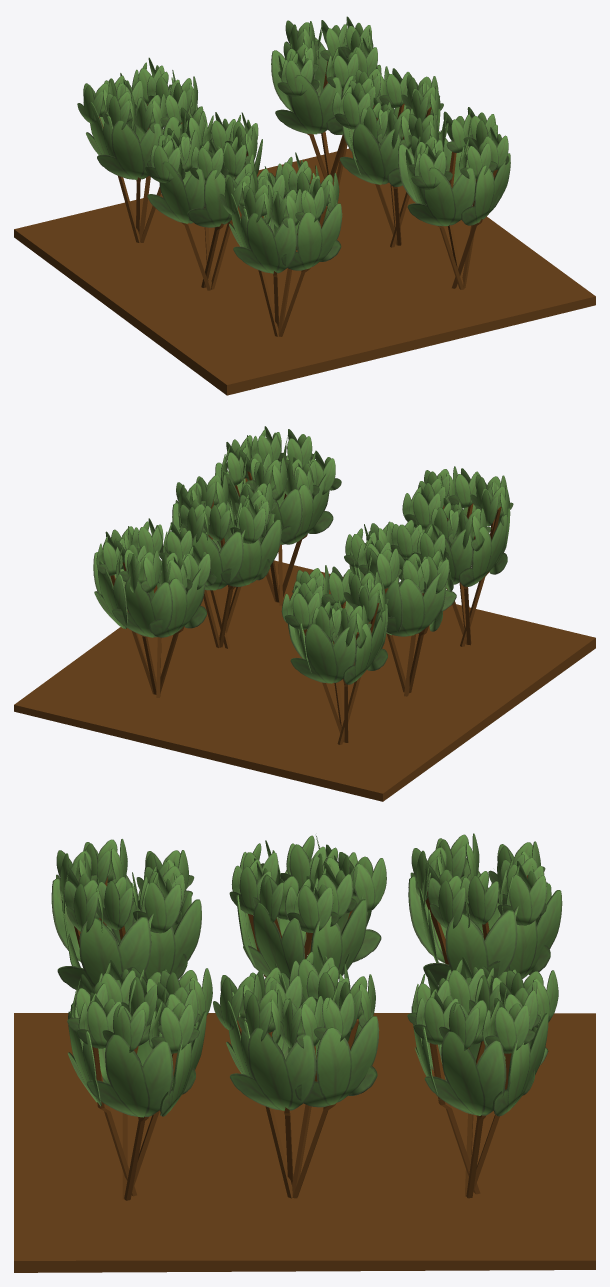
File: Coca1.fbx
3 renders of one model, top to bottom at view 1: azimuth 30°, elevation 25°; view 2: azimuth 150°, elevation 25°; view 3: azimuth 270°, elevation 25°, orthographic. The views are drawn at different scales.
Parts seen in each view (by area): view 1: Coffee.003, Plane.152, Plane.005, Plane.036, Plane.092, Plane.065, Plane.153, Plane.125, Plane.002, Plane.122, Cube.005, Cube (+25 smaller); view 2: Coffee.003, Plane.096, Plane.067, Plane.126, Plane.037, Plane.034, Plane.066, Plane.155, Plane.006, Cube.002, Plane.095, Cube.001 (+29 smaller); view 3: Coffee.003, Plane.003, Plane.032, Plane.063, Plane.033, Plane.154, Plane.094, Plane.123, Cube.001, Cube.002, Plane.157, Plane.124 (+43 smaller).
Boxes of the visible parts, x1=… form: Coffee.003: x1=14, y1=148, x2=595, y2=395; Plane.152: x1=233, y1=213, x2=297, y2=273; Plane.005: x1=407, y1=167, x2=475, y2=226; Plane.036: x1=339, y1=123, x2=401, y2=184; Plane.092: x1=97, y1=120, x2=162, y2=179; Plane.065: x1=275, y1=75, x2=342, y2=134; Plane.153: x1=281, y1=203, x2=342, y2=270; Plane.125: x1=147, y1=161, x2=205, y2=223; Plane.002: x1=461, y1=153, x2=510, y2=225; Plane.122: x1=187, y1=163, x2=252, y2=227; Cube.005: x1=238, y1=206, x2=327, y2=336; Cube: x1=437, y1=140, x2=497, y2=289; Coffee.003: x1=14, y1=560, x2=595, y2=801; Plane.096: x1=290, y1=623, x2=356, y2=683; Plane.067: x1=112, y1=576, x2=172, y2=637; Plane.126: x1=386, y1=573, x2=445, y2=636; Plane.037: x1=220, y1=519, x2=281, y2=586; Plane.034: x1=192, y1=531, x2=243, y2=590; Plane.066: x1=149, y1=568, x2=205, y2=637; Plane.155: x1=459, y1=514, x2=507, y2=586; Plane.006: x1=281, y1=474, x2=329, y2=544; Cube.002: x1=110, y1=562, x2=184, y2=697; Plane.095: x1=343, y1=610, x2=385, y2=684; Cube.001: x1=203, y1=500, x2=259, y2=648; Coffee.003: x1=14, y1=1013, x2=595, y2=1272; Plane.003: x1=86, y1=1034, x2=173, y2=1117; Plane.032: x1=230, y1=1027, x2=316, y2=1110; Plane.063: x1=424, y1=1031, x2=506, y2=1115; Plane.033: x1=294, y1=1016, x2=379, y2=1107; Plane.154: x1=57, y1=917, x2=151, y2=990; Plane.094: x1=423, y1=910, x2=517, y2=984; Plane.123: x1=243, y1=903, x2=304, y2=977; Cube.001: x1=237, y1=1016, x2=358, y2=1198; Cube.002: x1=429, y1=1041, x2=511, y2=1198; Plane.157: x1=120, y1=899, x2=201, y2=982; Plane.124: x1=310, y1=899, x2=367, y2=978.
Bounding box in the file's own units: 166 × 72.17 × 166.
